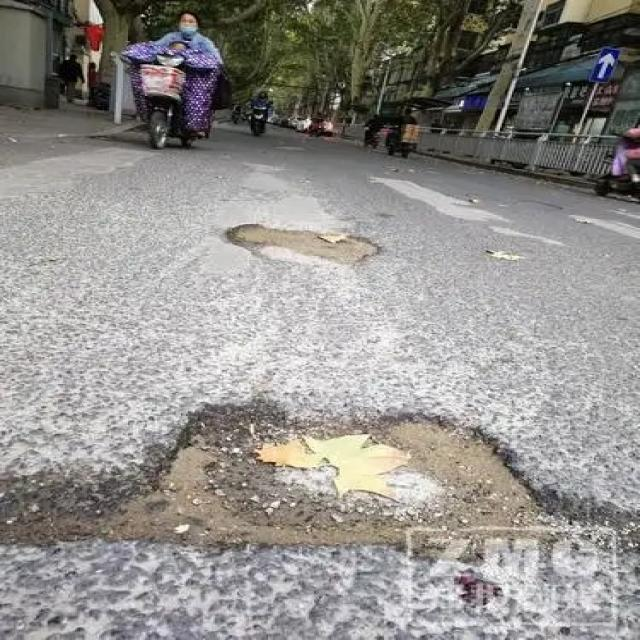Buraco: (0, 393, 576, 565), (222, 220, 388, 270)
